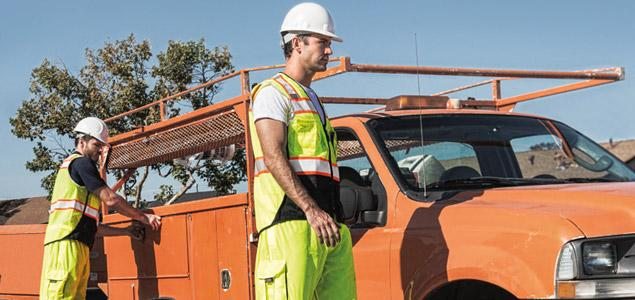helmet: (279, 3, 345, 47), (74, 117, 112, 149)
